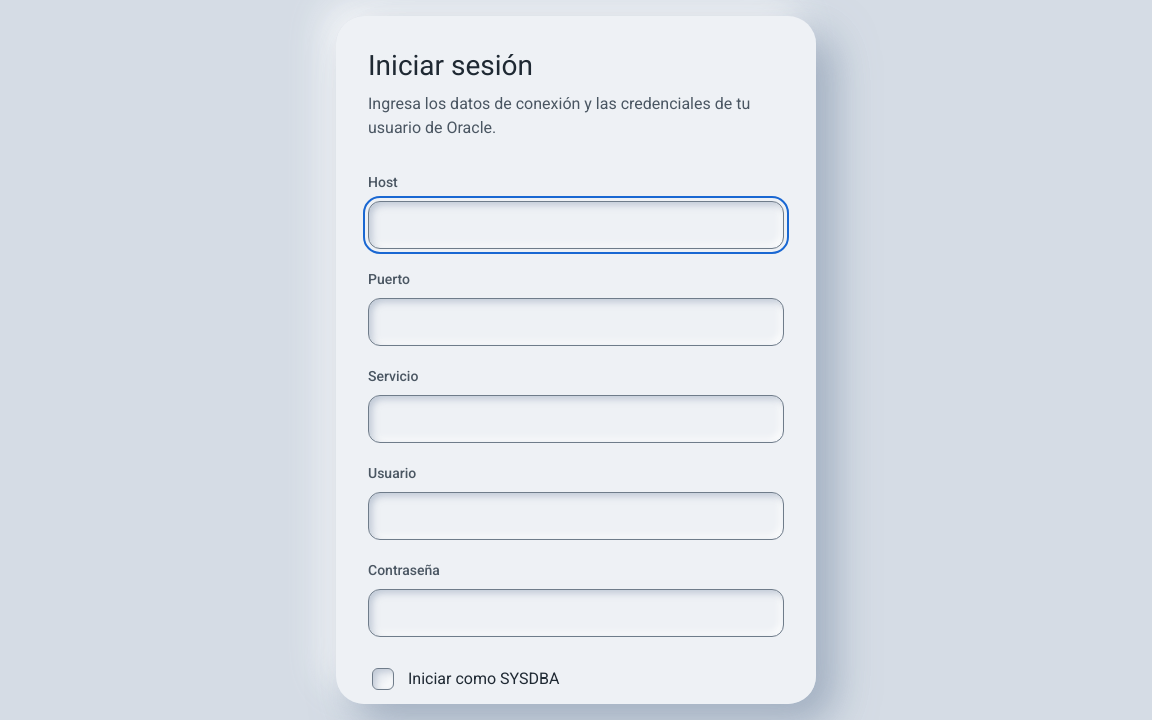
Test case: validación sin llamar a la API › el puerto «abc» no es numérico
The width and height of the screenshot is (1152, 720).
Type "db.local" into the field labelled "Host" at (576, 225), box [368,201,784,249]
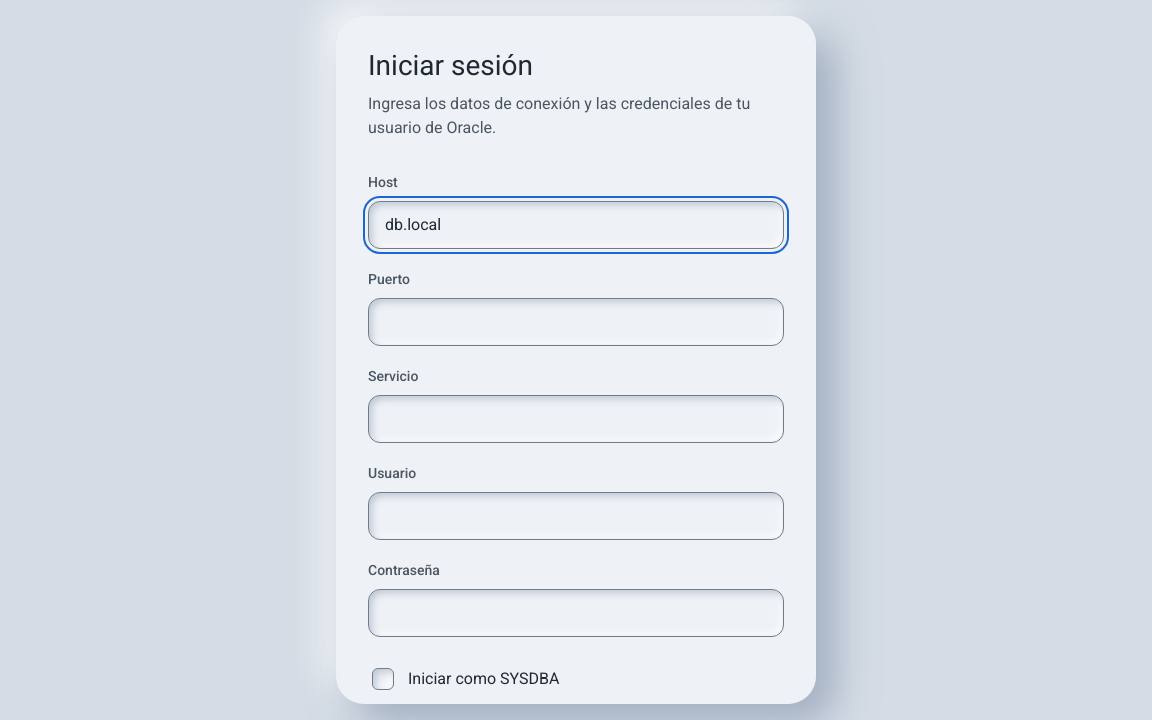
Type "abc" into the field labelled "Puerto" at (576, 322), box [368,298,784,346]
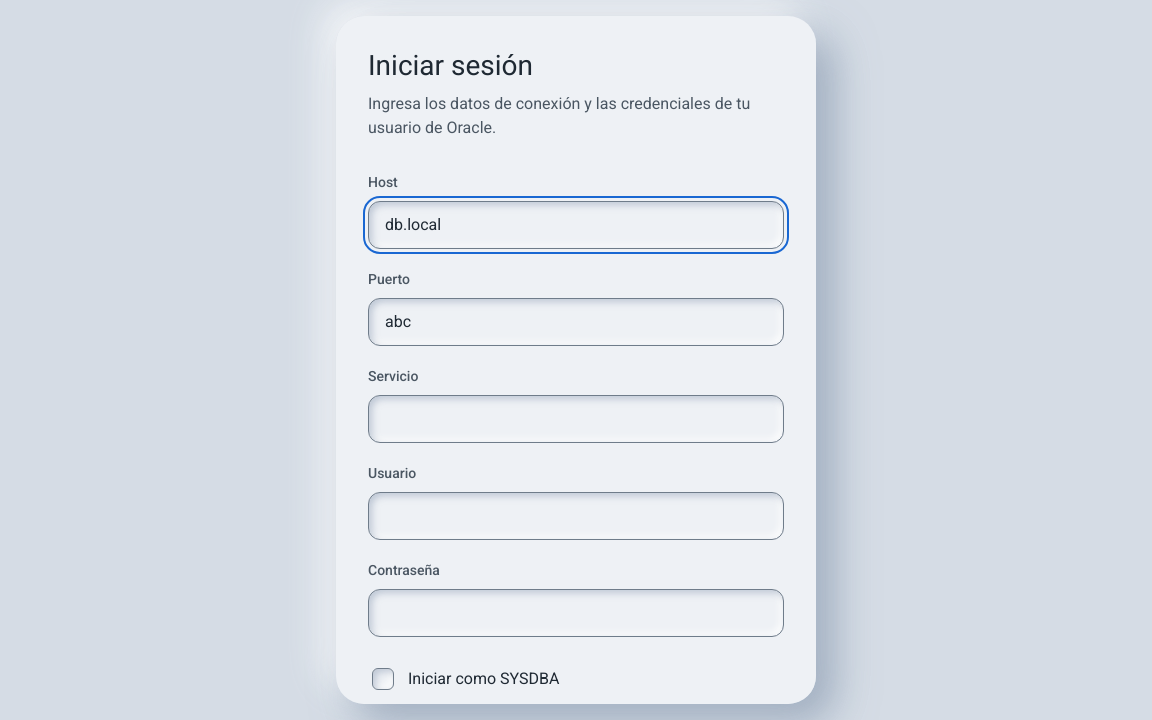
Type "XEPDB1" into the field labelled "Servicio" at (576, 419), box [368,395,784,443]
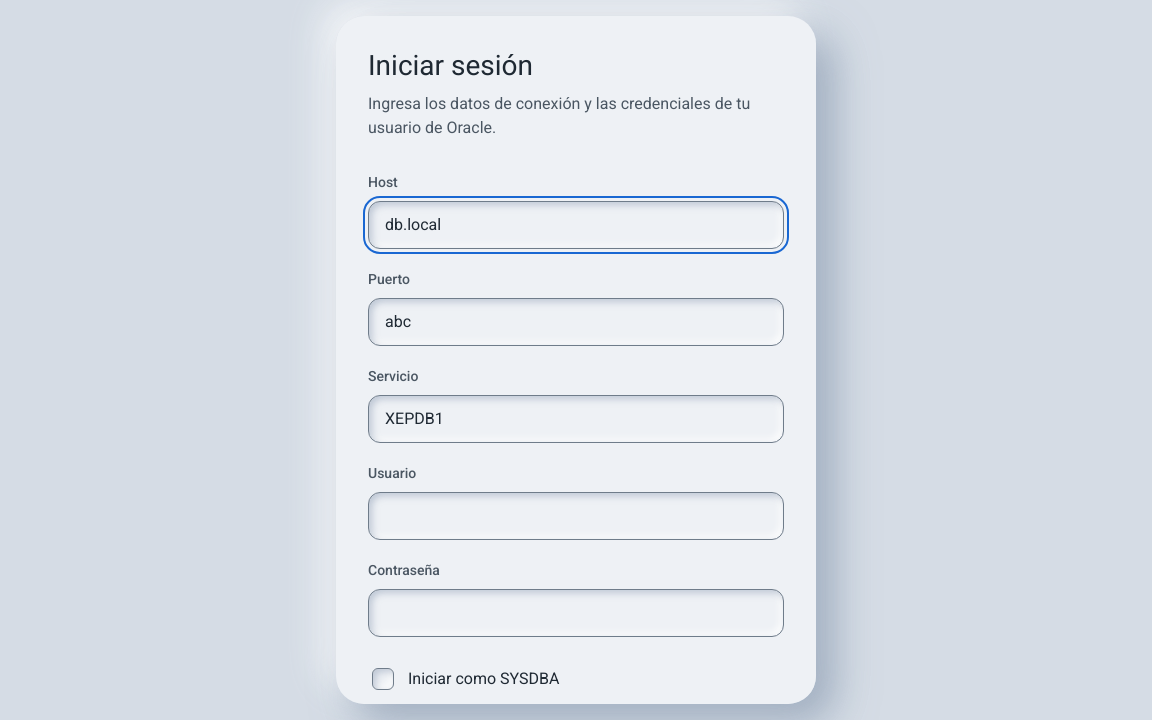
Type "HR" into the field labelled "Usuario" at (576, 516), box [368,492,784,540]
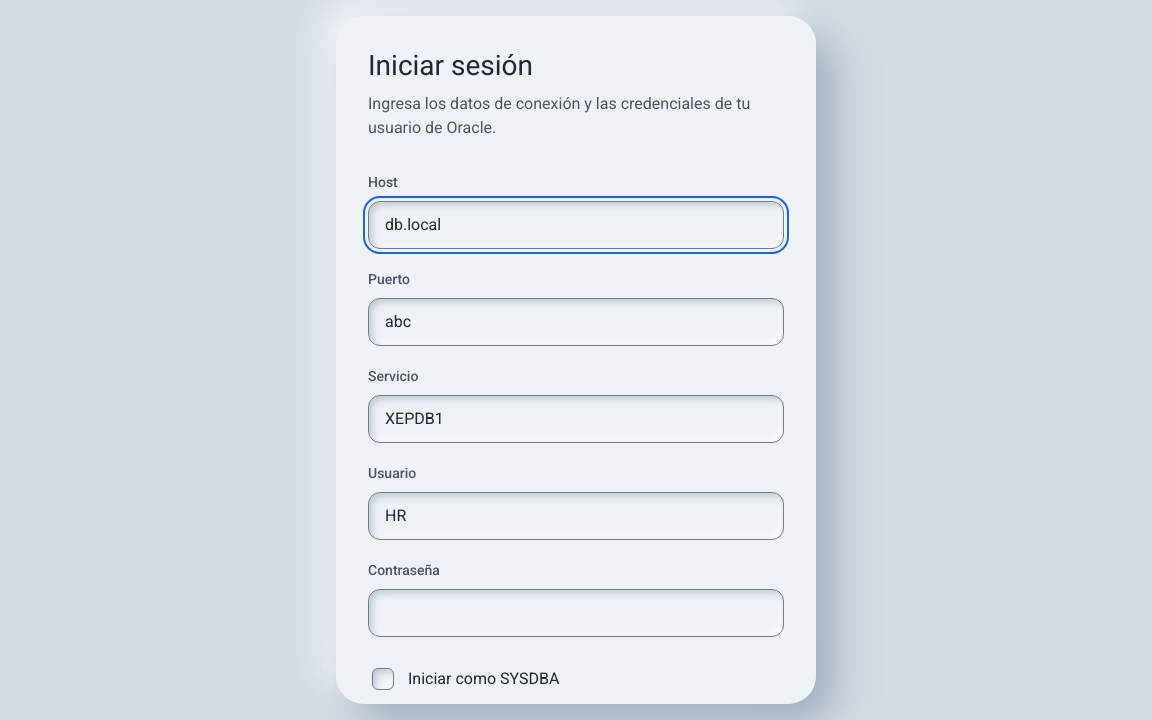
Type "s3creta!" into the password field labelled "Contraseña" at (576, 613), box [368,589,784,637]
(page scrolled)
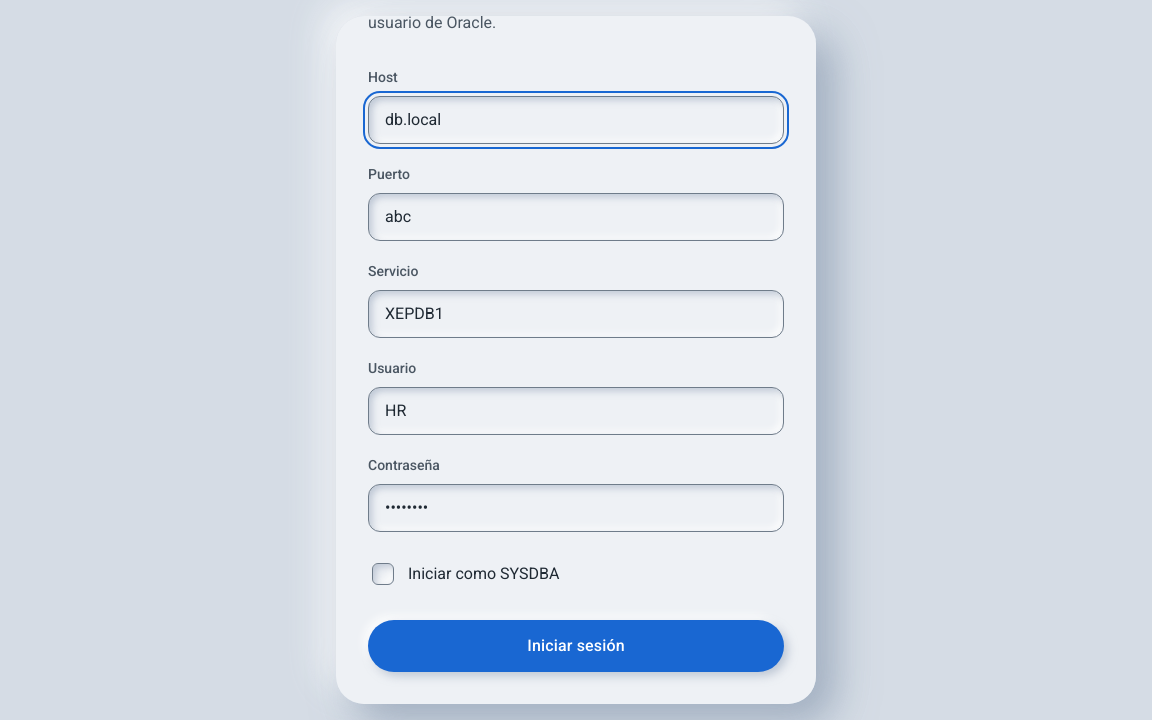
Submit the form, box [368,67,784,672]
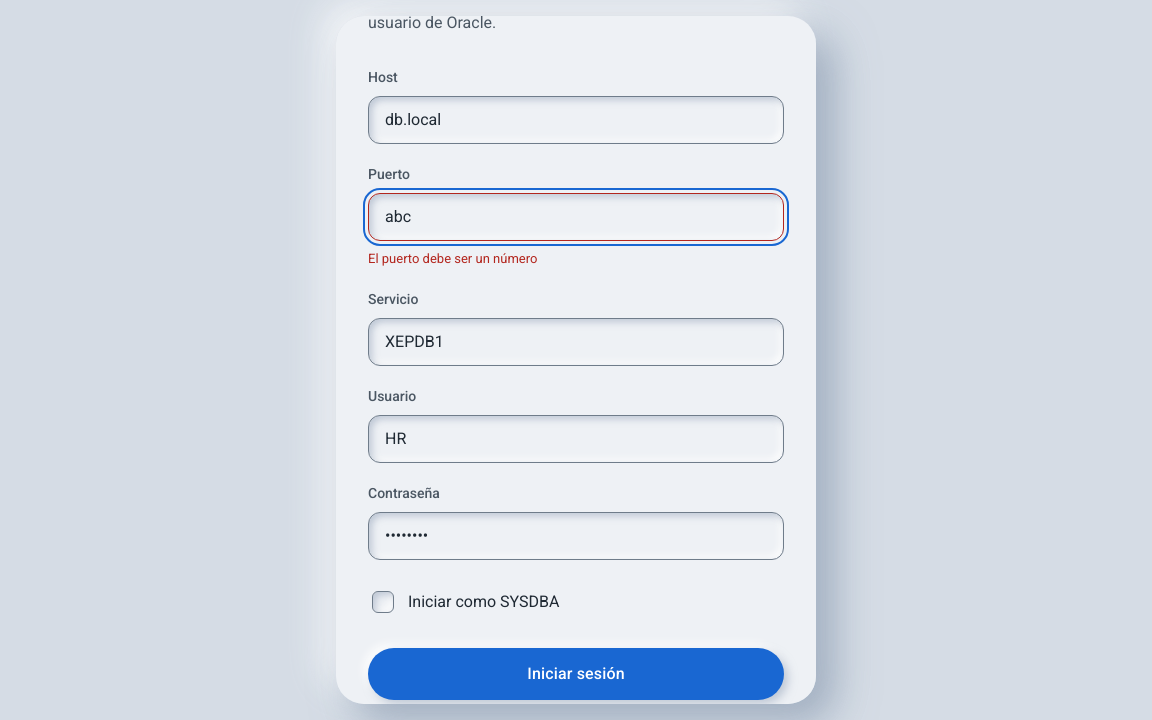
Expected: the text "El puerto debe ser un número" is shown, [368,251,537,266]
